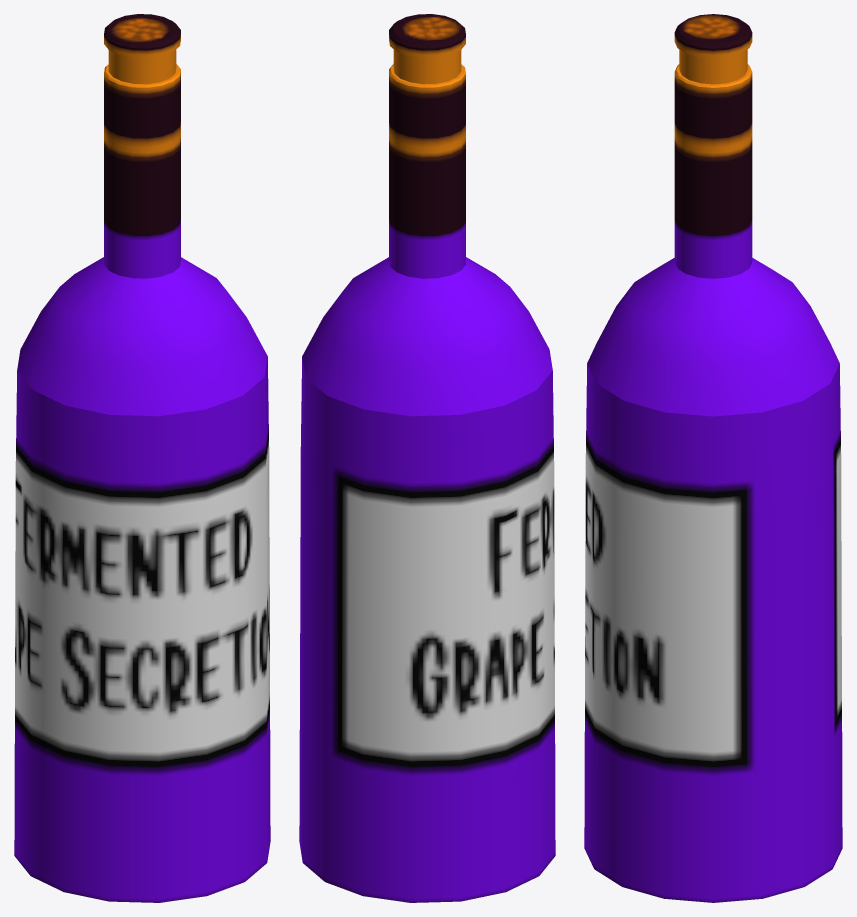
Rendered from Wine.FBX.
The picture shows the model from 3 angles, left to right: view 1: azimuth 30°, elevation 25°; view 2: azimuth 150°, elevation 25°; view 3: azimuth 270°, elevation 25°; orthographic projection.
Visible parts, largest first — view 1: Sphere001; view 2: Sphere001; view 3: Sphere001.
Part boxes in pixels (x1,y1,x2,y2): Sphere001: (14, 14, 270, 902); Sphere001: (299, 14, 555, 902); Sphere001: (584, 14, 842, 902).
Size of the model in its own units: 1181 by 1181 by 4138.
Materials: 1 (1 with a texture image).
